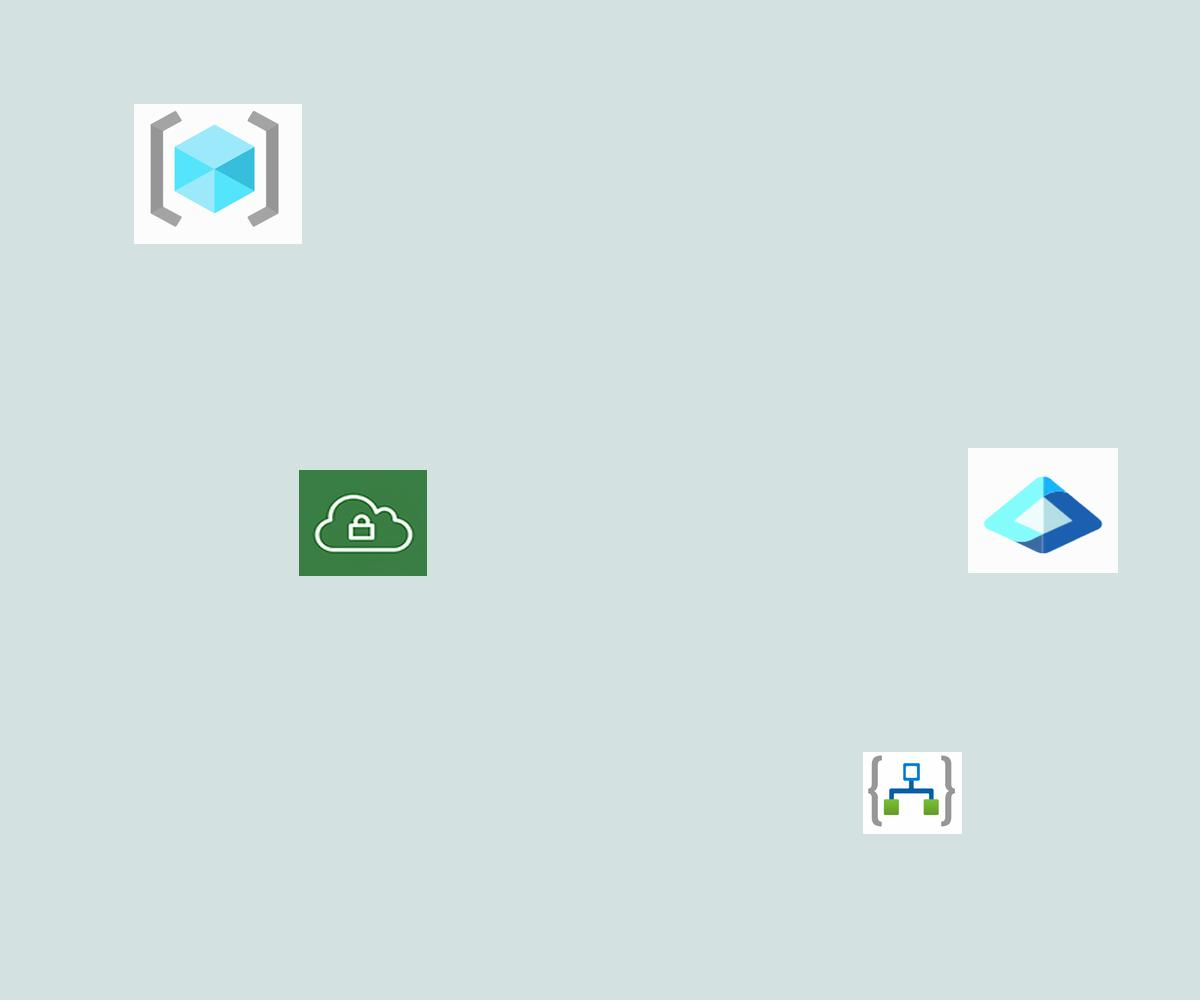AWS-Private_vpc: (299, 470, 427, 576)
Azure_integration-204-Logic-Apps: (863, 752, 962, 834)
Azure_microsoft_entra: (968, 448, 1118, 573)
Azure_resource_group: (134, 104, 302, 244)
